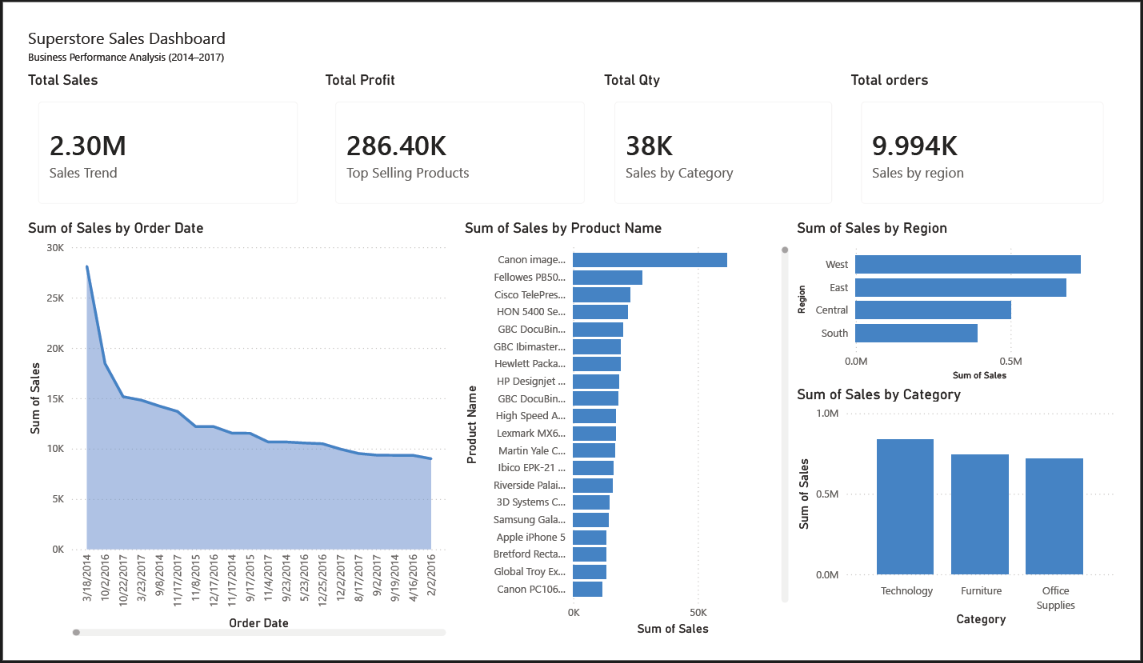

Layout of this report page (visuals, bound fields, positions):
{"tool":"powerbi","page":{"name":"Page 1","canvas":[1280,720],"ordinal":0},"visuals":[{"type":"cardVisual","title":"Total Sales","fields":{"Data":["Sum(Sample - Superstore.Sales)"]},"box":[0,56.3,337.5,172.4],"z":0},{"type":"cardVisual","title":"Total Profit","fields":{"Data":["Sum(Sample - Superstore.Profit)"]},"box":[347.3,56.3,325.3,172.4],"z":1000},{"type":"cardVisual","title":"Total Qty","fields":{"Data":["Sum(Sample - Superstore.Quantity)"]},"box":[672.6,56.3,288.6,172.4],"z":2000},{"type":"cardVisual","title":"Total orders","fields":{"Data":["CountNonNull(Sample - Superstore.Row ID)"]},"box":[961.1,56.3,317.9,172.4],"z":3000},{"type":"stackedAreaChart","fields":{"Category":["Sample - Superstore.Order Date"],"Y":["Sum(Sample - Superstore.Sales)"]},"box":[0,228.7,497.7,492.8],"z":4000},{"type":"clusteredColumnChart","fields":{"Category":["Sample - Superstore.Category"],"Y":["Sum(Sample - Superstore.Sales)"]},"box":[897.6,423.1,382.7,286.1],"z":5000},{"type":"barChart","fields":{"Category":["Sample - Superstore.Product Name"],"Y":["Sum(Sample - Superstore.Sales)"]},"box":[509.9,228.7,387.6,491.6],"z":6000},{"type":"clusteredBarChart","fields":{"Category":["Sample - Superstore.Region"],"Y":["Sum(Sample - Superstore.Sales)"]},"box":[897.6,228.7,382.7,194.4],"z":7000},{"type":"textbox","box":[0,0,299.6,56.3],"z":8000}]}

Visuals, with their boxes on the page's 1280x720 design canvas (x1, y1, x2, y2). These are canvas units, not pixel positions in the 1143x663 screenshot, which may show the page scaled, cropped or inside an application window:
"Total Sales" cardVisual: (0, 56, 338, 229)
"Total Profit" cardVisual: (347, 56, 673, 229)
"Total Qty" cardVisual: (673, 56, 961, 229)
"Total orders" cardVisual: (961, 56, 1279, 229)
stackedAreaChart - Sample - Superstore.Order Date x Sum(Sample - Superstore.Sales): (0, 229, 498, 722)
clusteredColumnChart - Sample - Superstore.Category x Sum(Sample - Superstore.Sales): (898, 423, 1280, 709)
barChart - Sample - Superstore.Product Name x Sum(Sample - Superstore.Sales): (510, 229, 898, 720)
clusteredBarChart - Sample - Superstore.Region x Sum(Sample - Superstore.Sales): (898, 229, 1280, 423)
textbox: (0, 0, 300, 56)
